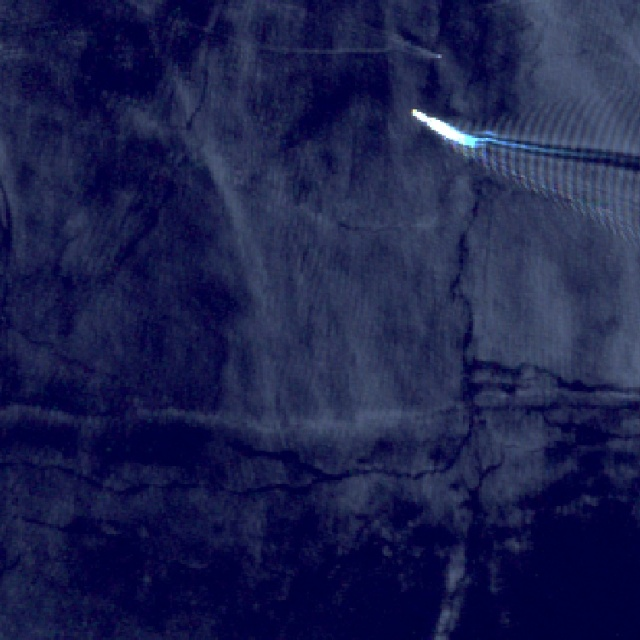wake: (398, 74, 631, 215)
